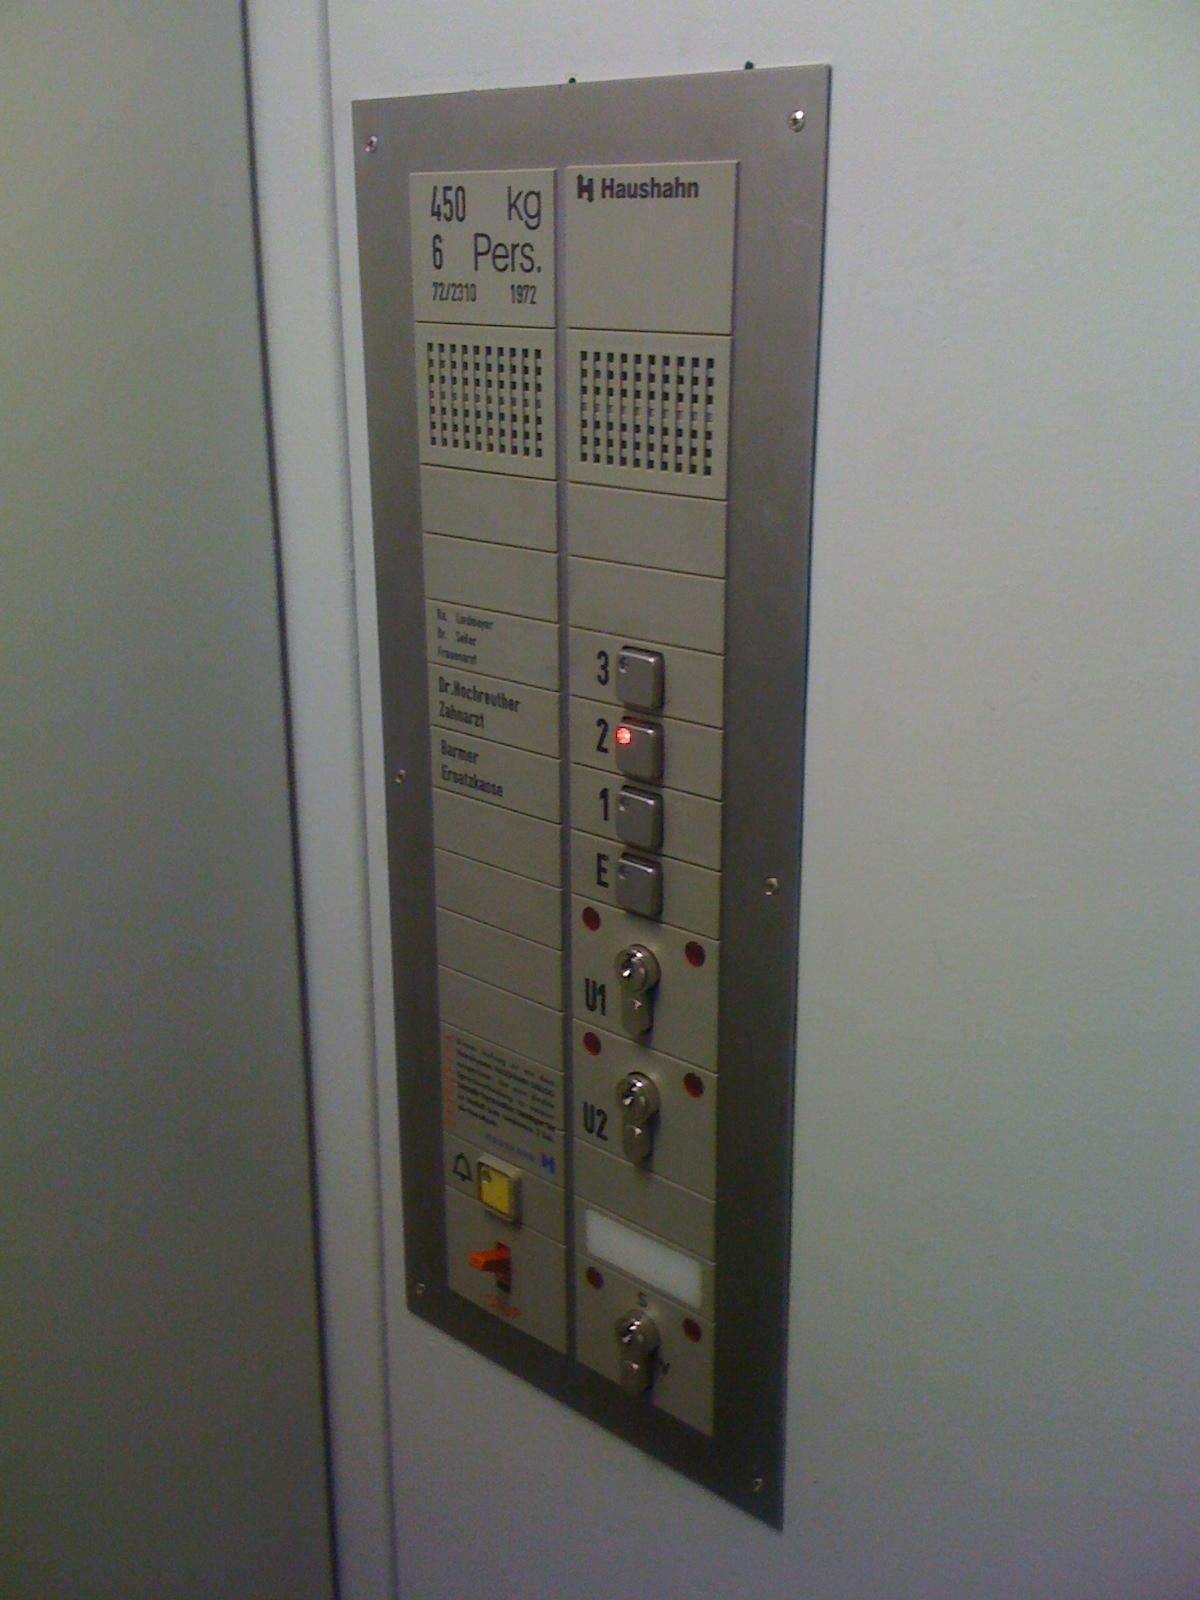alarm: (450, 1146, 476, 1193)
empty: (611, 635, 666, 712), (471, 1151, 528, 1222), (614, 781, 666, 855), (613, 716, 666, 785), (613, 850, 666, 920)
keyhole: (608, 944, 661, 1044), (613, 1070, 662, 1169), (613, 1304, 661, 1403)
switch: (469, 1238, 512, 1296)
